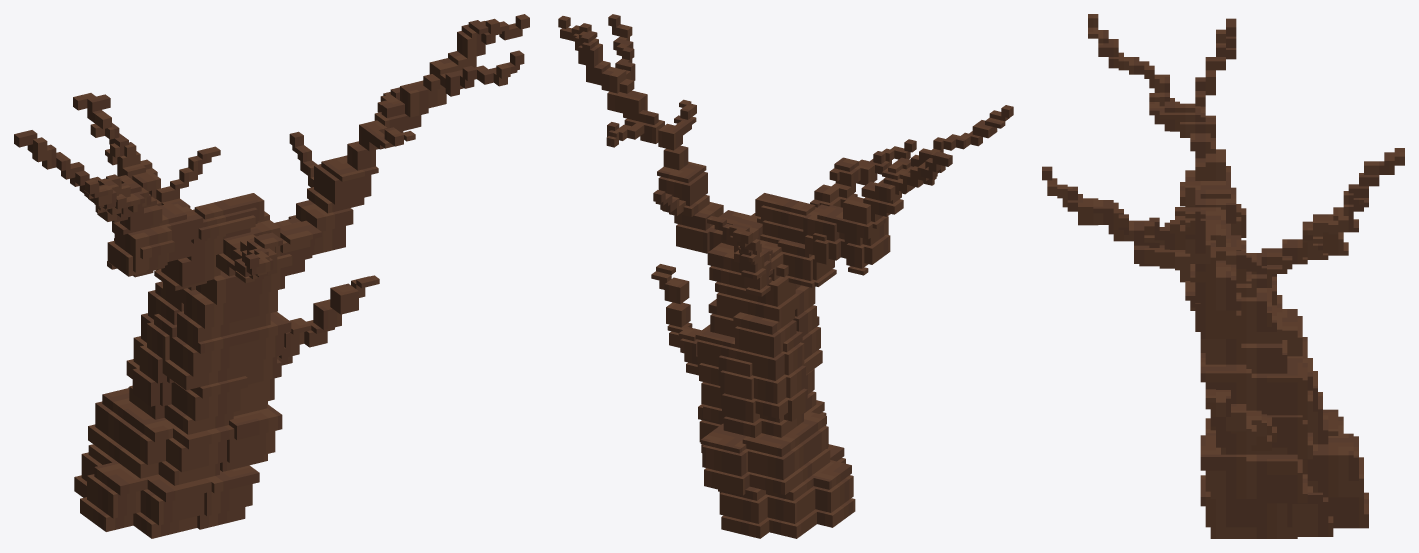
File: dead_tree.fbx
3 renders of one model, left to right at view 1: azimuth 30°, elevation 25°; view 2: azimuth 150°, elevation 25°; view 3: azimuth 270°, elevation 25°, orthographic. The views are drawn at different scales.
Parts seen in each view (by area): view 1: dead_tree; view 2: dead_tree; view 3: dead_tree.
Part boxes in pixels (x1=…): dead_tree: x1=14, y1=14, x2=529, y2=538; dead_tree: x1=558, y1=14, x2=1013, y2=538; dead_tree: x1=1042, y1=14, x2=1404, y2=538.
Size of the model in its own units: 1060 by 710 by 950.
